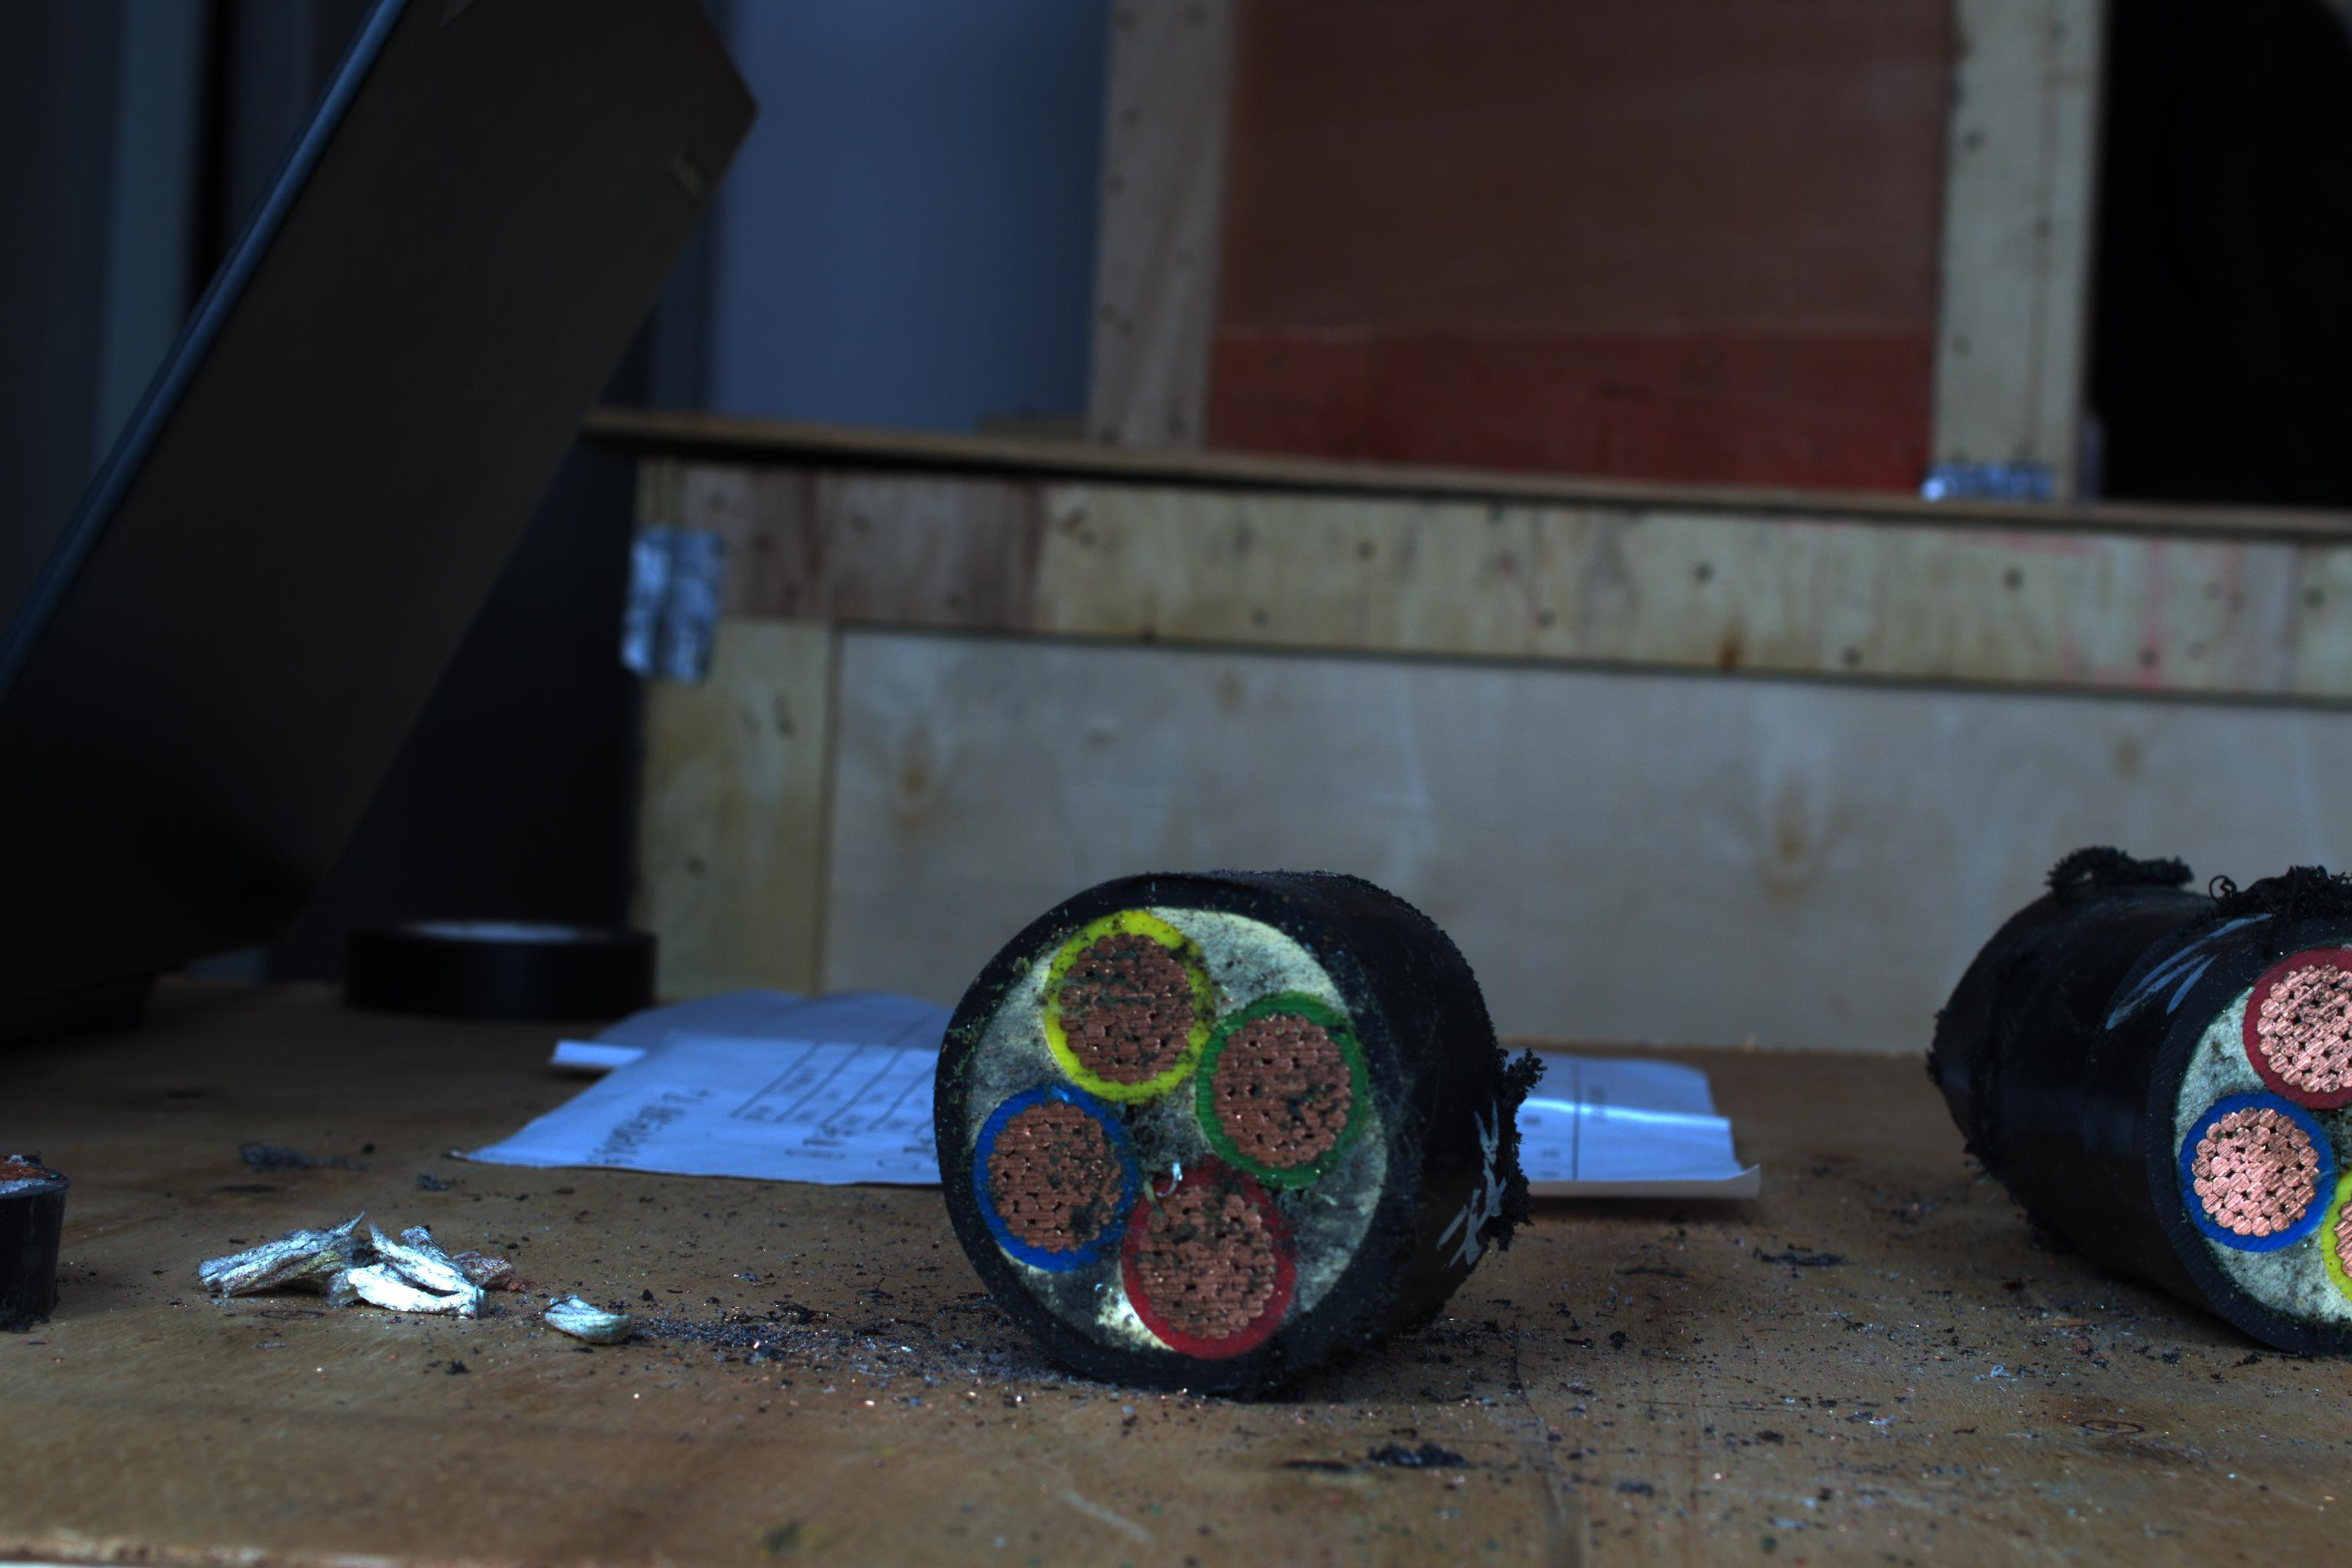YJV_0.6_1kV_4x185: (934, 894, 1421, 1358)
